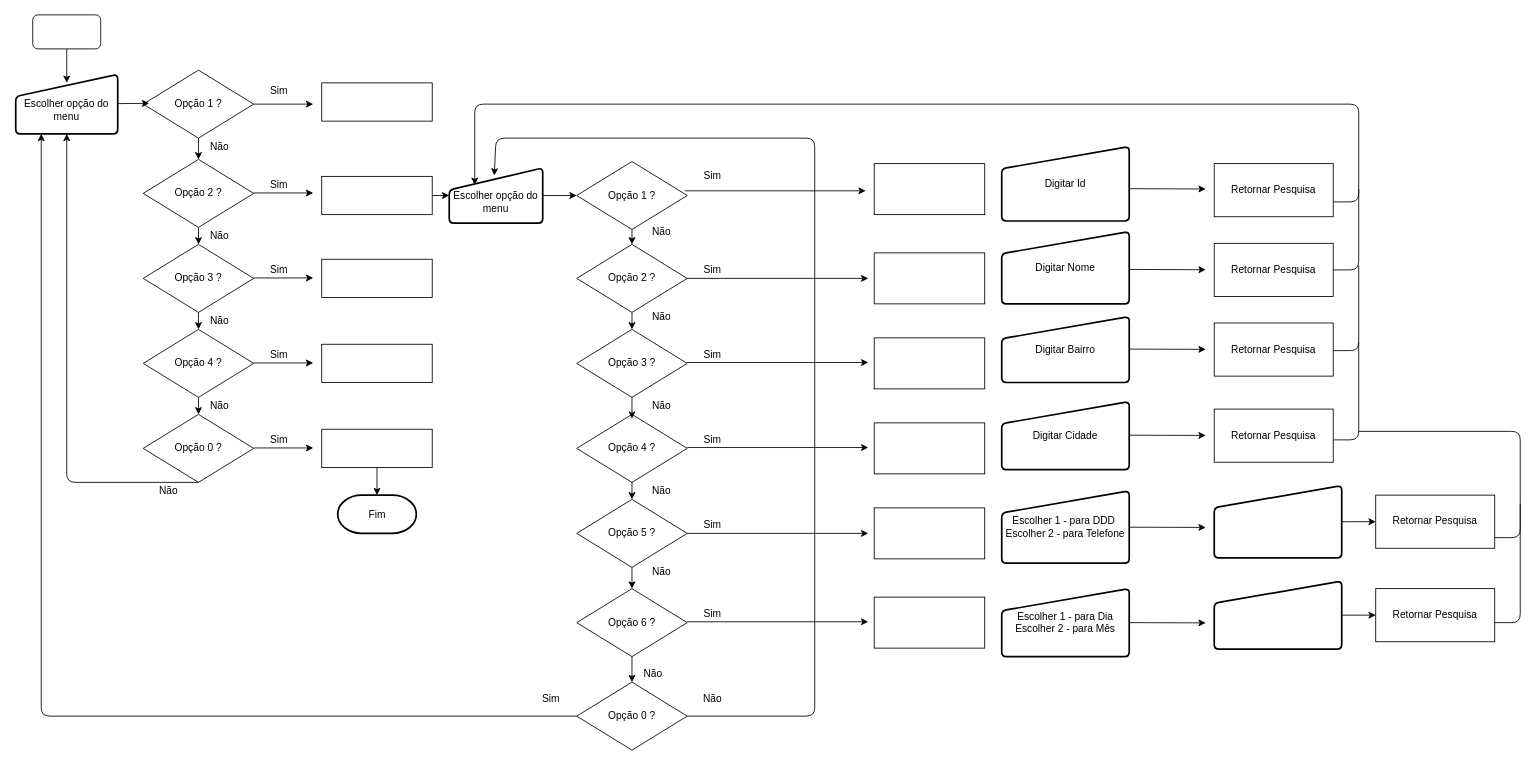
The diagram is 1536 pixels wide and 765 high, and some of its shapes have lost their labels. The shapes that lost their labels are listed below. From the top down, each one's centre as x and y in pixels, then its label:
At point 66,31: "Inicio".
At point 376,101: "void cadPessoas()".
At point 376,195: "void menuConsultar()".
At point 929,189: "void consultarId()".
At point 376,278: "void listar()".
At point 929,278: "void consultarNome()".
At point 376,362: "void excluir()".
At point 929,363: "void consultarBairro()".
At point 376,448: "void encerrarPrograma()".
At point 929,448: "void consultarCidade()".
At point 929,533: "void consultarTelefone()".
At point 1277,521: "Digitar DDD ou Telefone".
At point 929,622: "void consultarAniversario()".
At point 1277,615: "Digitar Dia ou Mês".
